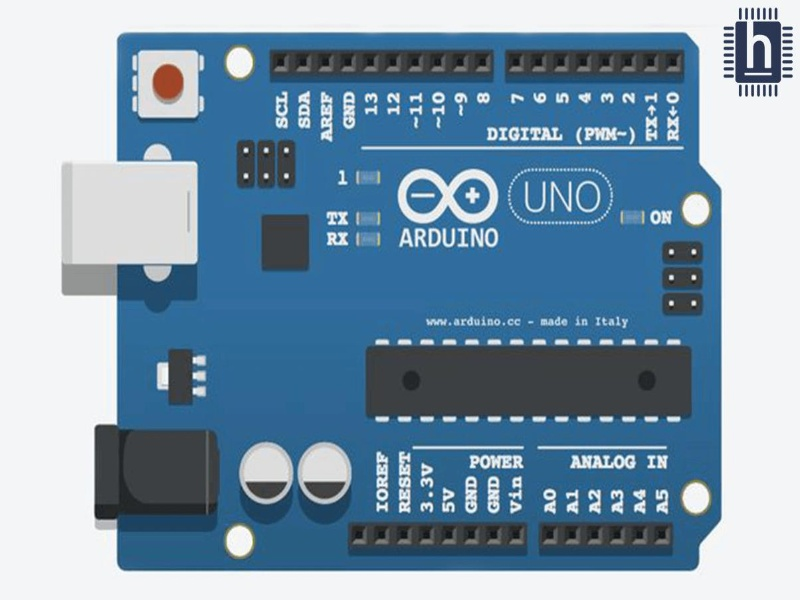uno: (66, 21, 747, 576)
